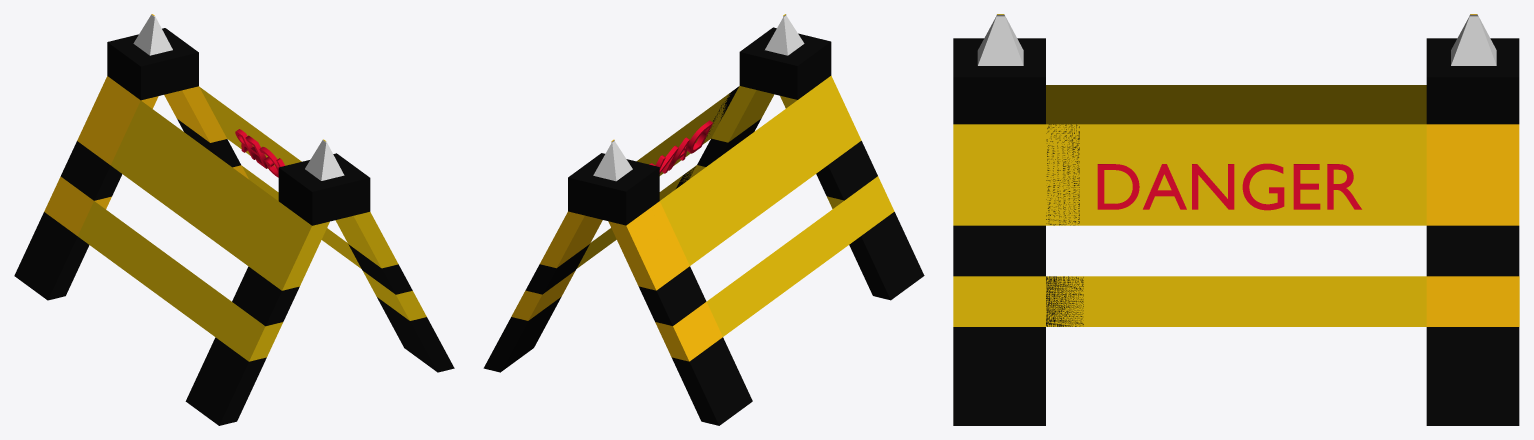
The model's file is obs-6.fbx.
3 renders of one model, left to right at view 1: azimuth 30°, elevation 25°; view 2: azimuth 150°, elevation 25°; view 3: azimuth 270°, elevation 25°, orthographic. The views are drawn at different scales.
Visible parts, largest first — view 1: Cube, Cube.001, Metin; view 2: Cube, Cube.001, Metin; view 3: Cube, Cube.001, Metin.
Boxes of the visible parts, x1,y1,x2,y2 form: Cube: (78, 86, 454, 425); Cube.001: (14, 14, 248, 300); Metin: (235, 129, 284, 177); Cube: (514, 14, 924, 336); Cube.001: (483, 139, 752, 425); Metin: (649, 120, 712, 173); Cube: (953, 14, 1519, 425); Cube.001: (1426, 14, 1519, 425); Metin: (1097, 163, 1361, 210).
Size of the model in its own units: 81.11 by 79.96 by 122.
